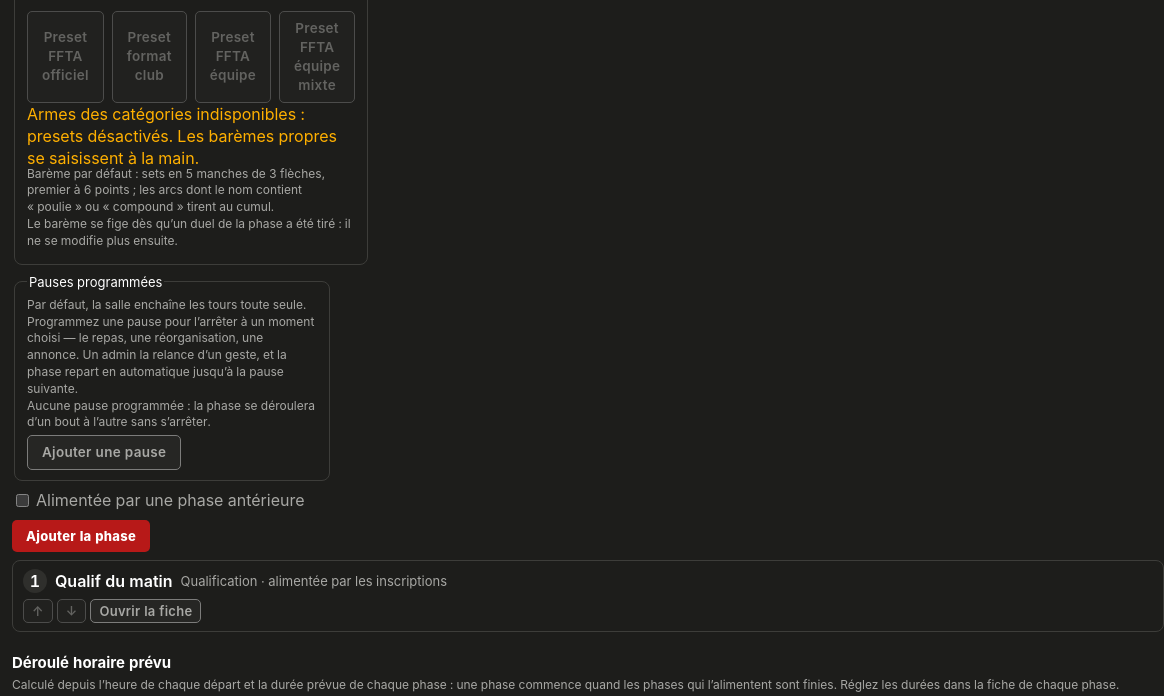
Test: la durée prévue d’une phase › refuse d’envoyer une durée que le serveur refuserait
(page scrolled)
Click the button "Ouvrir la fiche" at (146, 611), box [90, 599, 201, 623]
(page scrolled)
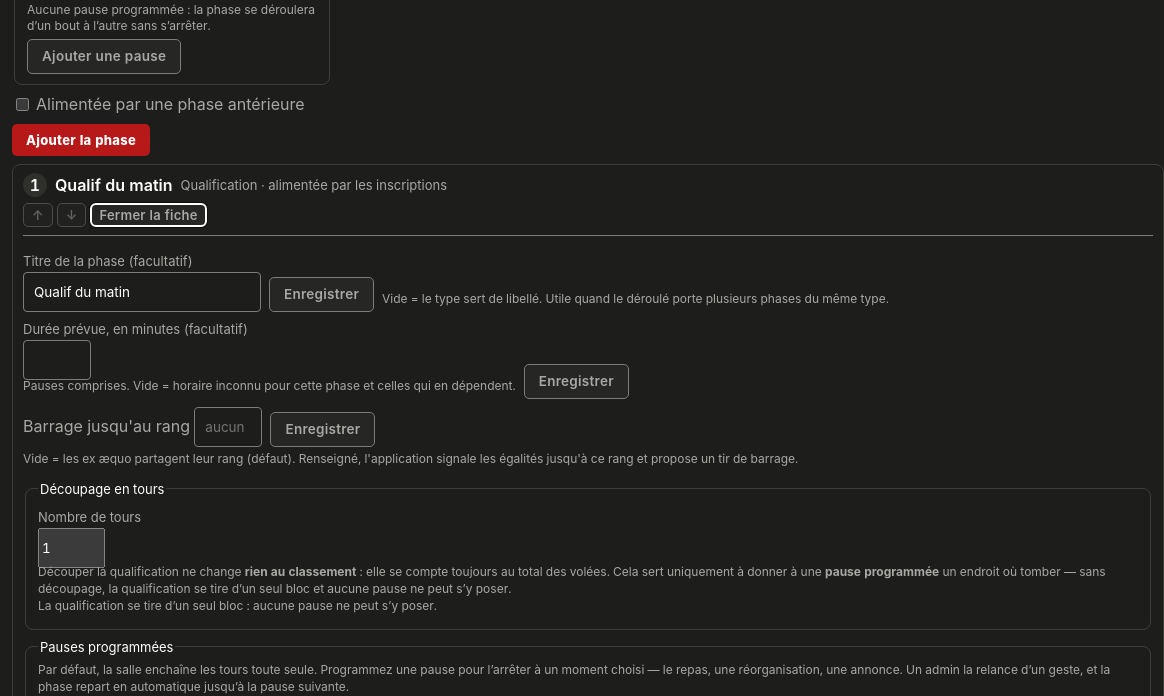
Type "1.5" into the number field labelled "Durée prévue" at (57, 360), box [23, 340, 91, 380]
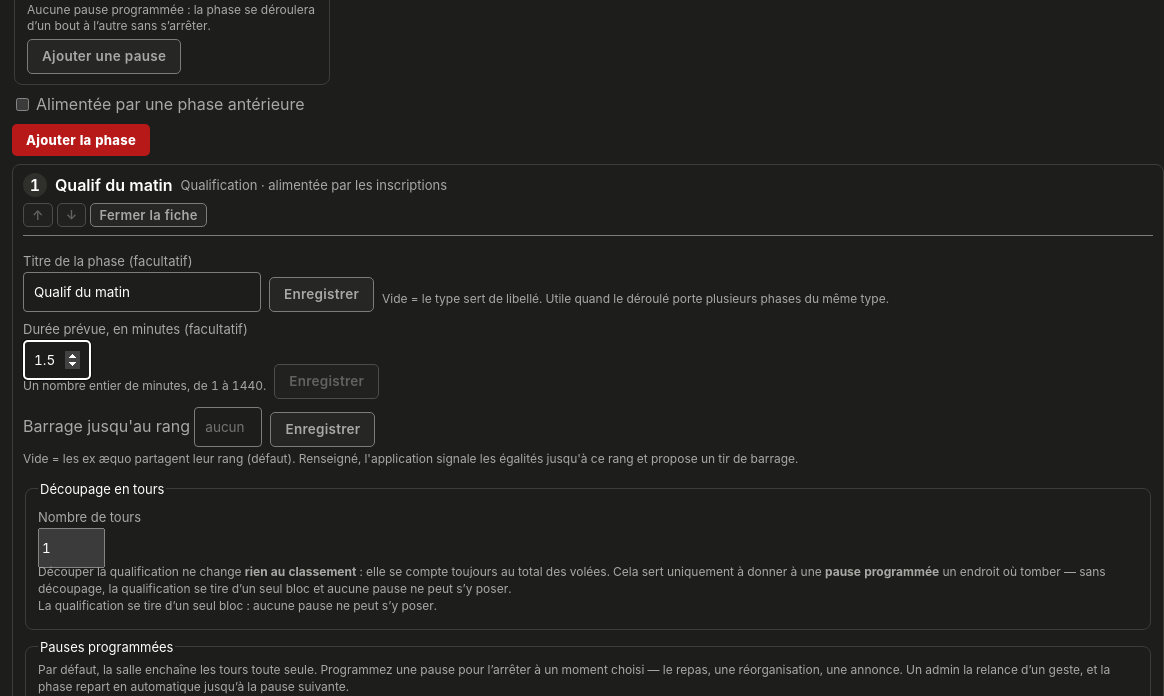
Now the button with aria-label "Enregistrer la durée prévue de la phase 1" is disabled, box [274, 364, 379, 399]
Now the text "Un nombre entier de minutes, de 1 à 1440." is shown, box [23, 378, 266, 395]
